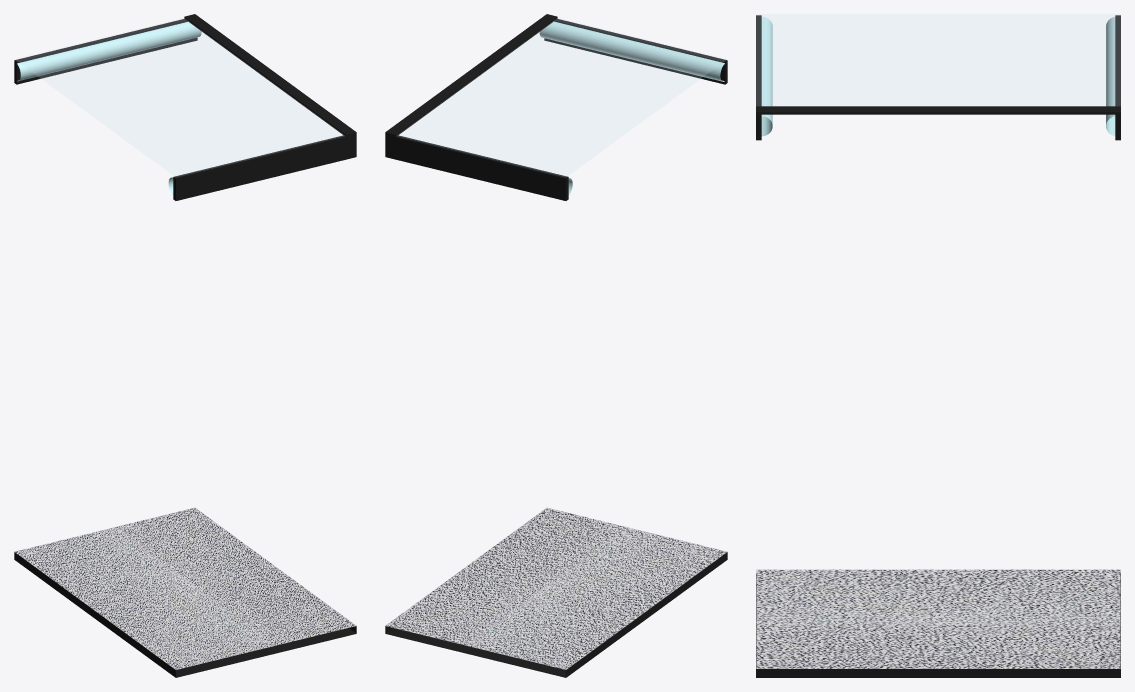
The model's file is ltd_80.obj.
3 views of the same model, side by side, from view 1: azimuth 30°, elevation 25°; view 2: azimuth 150°, elevation 25°; view 3: azimuth 270°, elevation 25° (orthographic). The views are drawn at different scales.
Parts seen in each view (by area): view 1: Box277, Plane004, Box276, ltd_deng003, Box278, Box279; view 2: Box277, Plane004, Box279, ltd_deng003, Box278, Box276; view 3: Box277, Plane004, Box278, ltd_deng003, Box276, Box279.
Part boxes in pixels (x1,y1,x2,y2): Box277: (14,507,356,677); Plane004: (15,18,344,176); Box276: (173,134,356,200); ltd_deng003: (17,21,201,195); Box278: (184,14,356,136); Box279: (14,19,197,84); Box277: (385,507,727,677); Plane004: (397,18,726,176); Box279: (385,134,568,200); ltd_deng003: (539,21,724,195); Box278: (385,14,557,136); Box276: (544,19,727,84); Box277: (756,569,1120,677); Plane004: (756,14,1120,105); Box278: (756,106,1120,114); ltd_deng003: (761,16,1115,136); Box276: (756,15,761,140); Box279: (1115,15,1120,140).
Size of the model in its own units: 84 by 222 by 130.
Materials: 4 (1 with a texture image).
